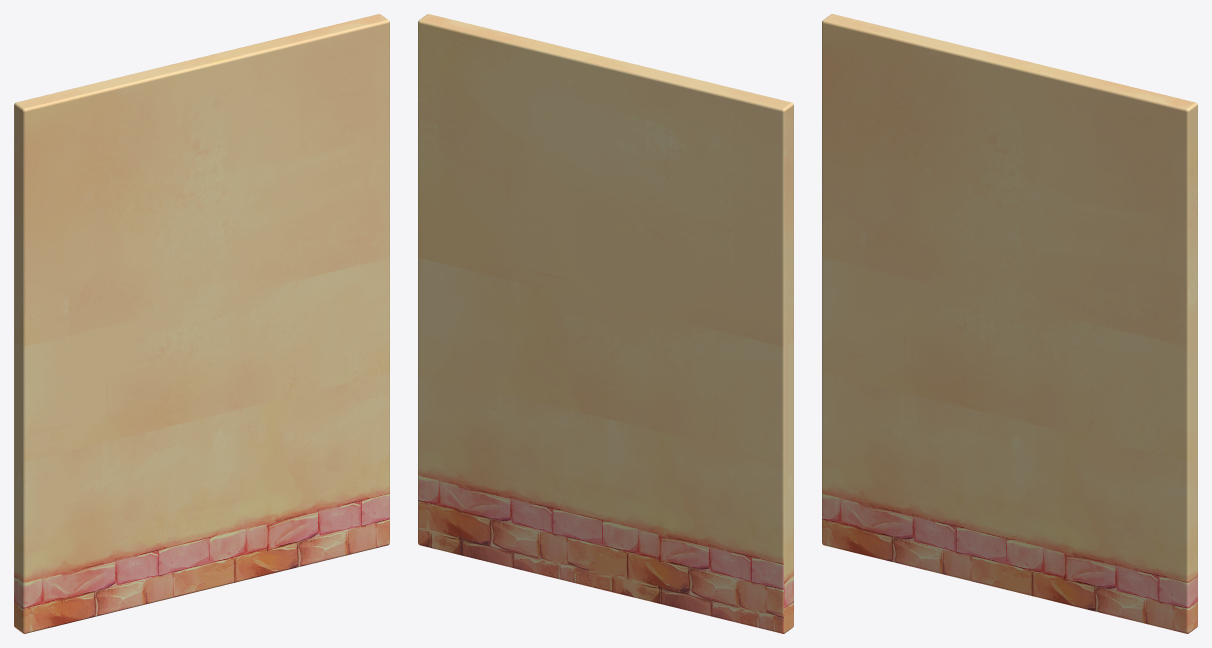
Rendered from Parede.fbx.
3 renders of one model, left to right at view 1: azimuth 30°, elevation 25°; view 2: azimuth 150°, elevation 25°; view 3: azimuth 330°, elevation 25°, orthographic.
Parts seen in each view (by area): view 1: Pared_sin_ventana; view 2: Pared_sin_ventana; view 3: Pared_sin_ventana.
Part boxes in pixels (x1,y1,x2,y2): Pared_sin_ventana: (14, 14, 389, 633); Pared_sin_ventana: (418, 14, 793, 633); Pared_sin_ventana: (822, 14, 1197, 633).
Size of the model in its own units: 1998 by 2730 by 99.14.
